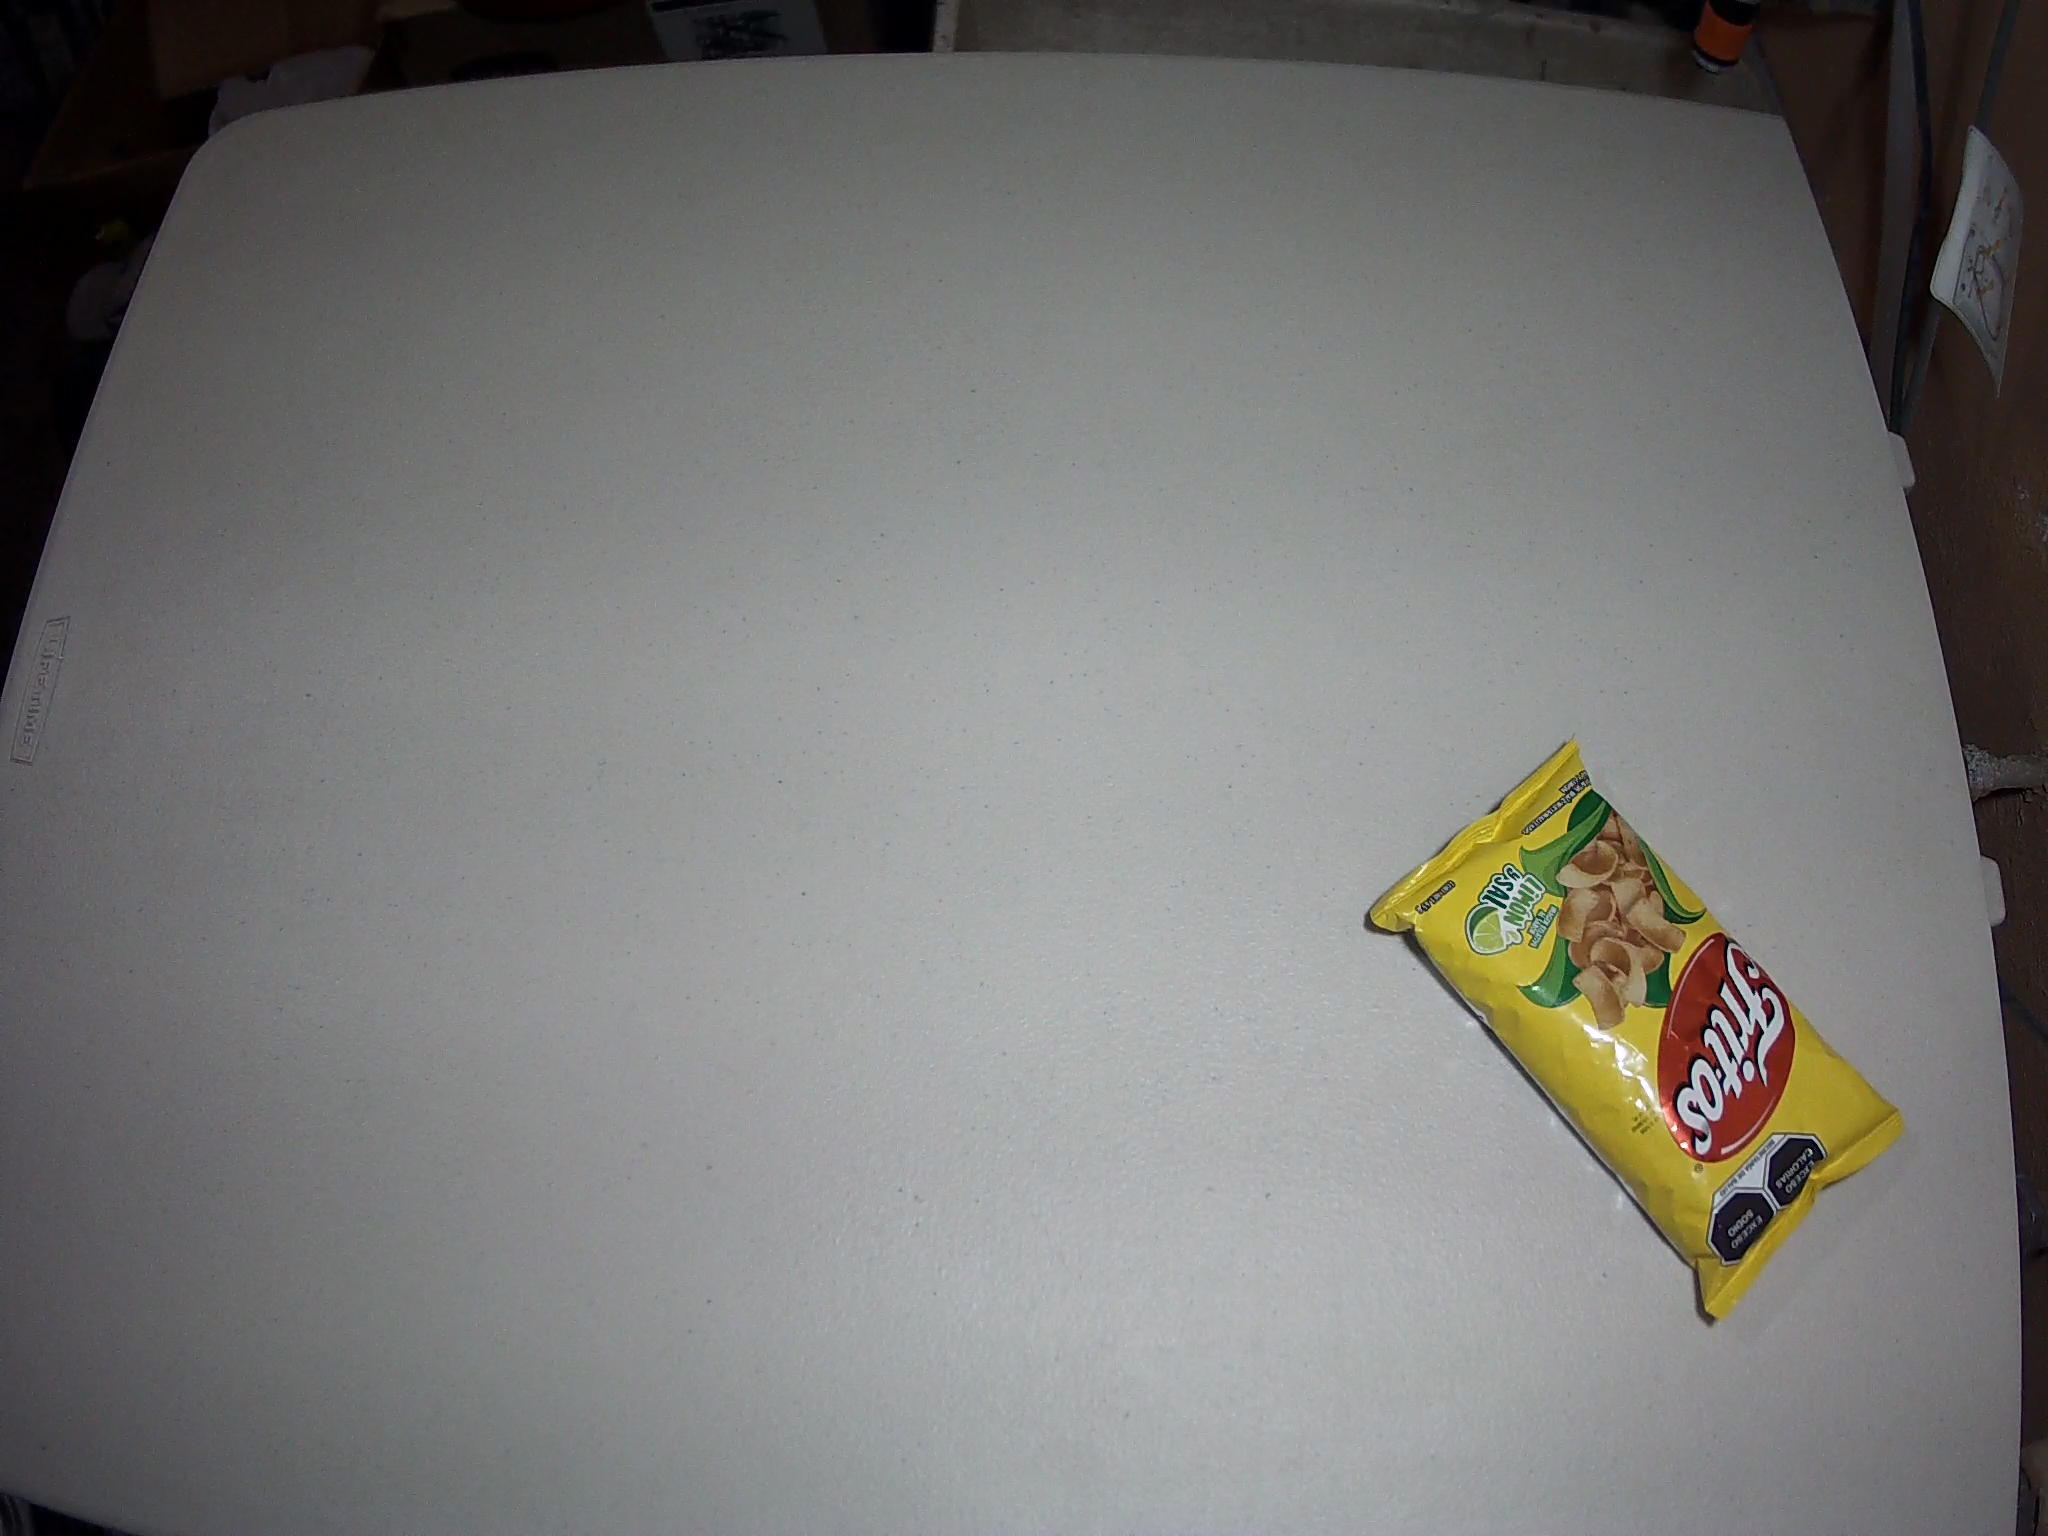FritosSalLimon_65_F: (1367, 731, 1906, 1321)
